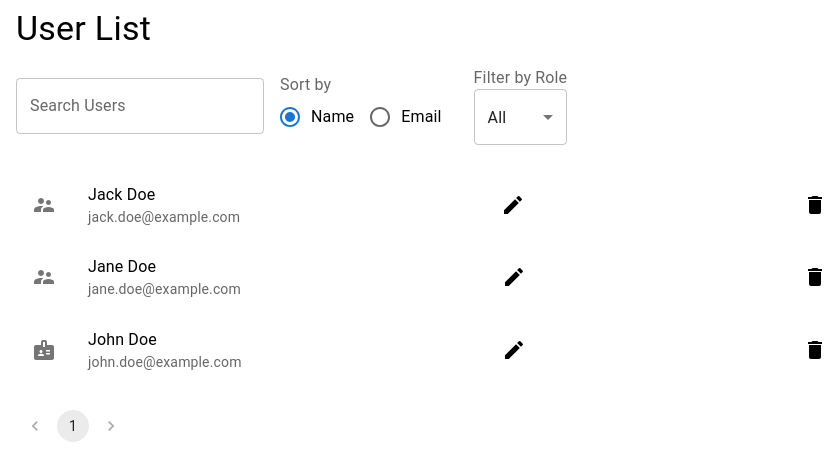
UserEmployeeListMittel Component › filters the user list based on search input
Step 1. Type "Jane" into the field labelled "Search Users" → (140, 106), box [16,78,264,134]
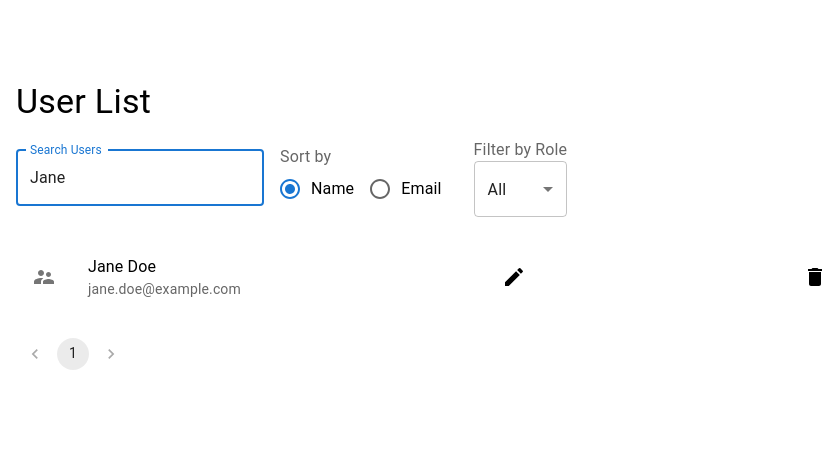
Expected: the text "Jane Doe" is shown, [88,258,156,276]
Result: the text "John Doe" is gone
